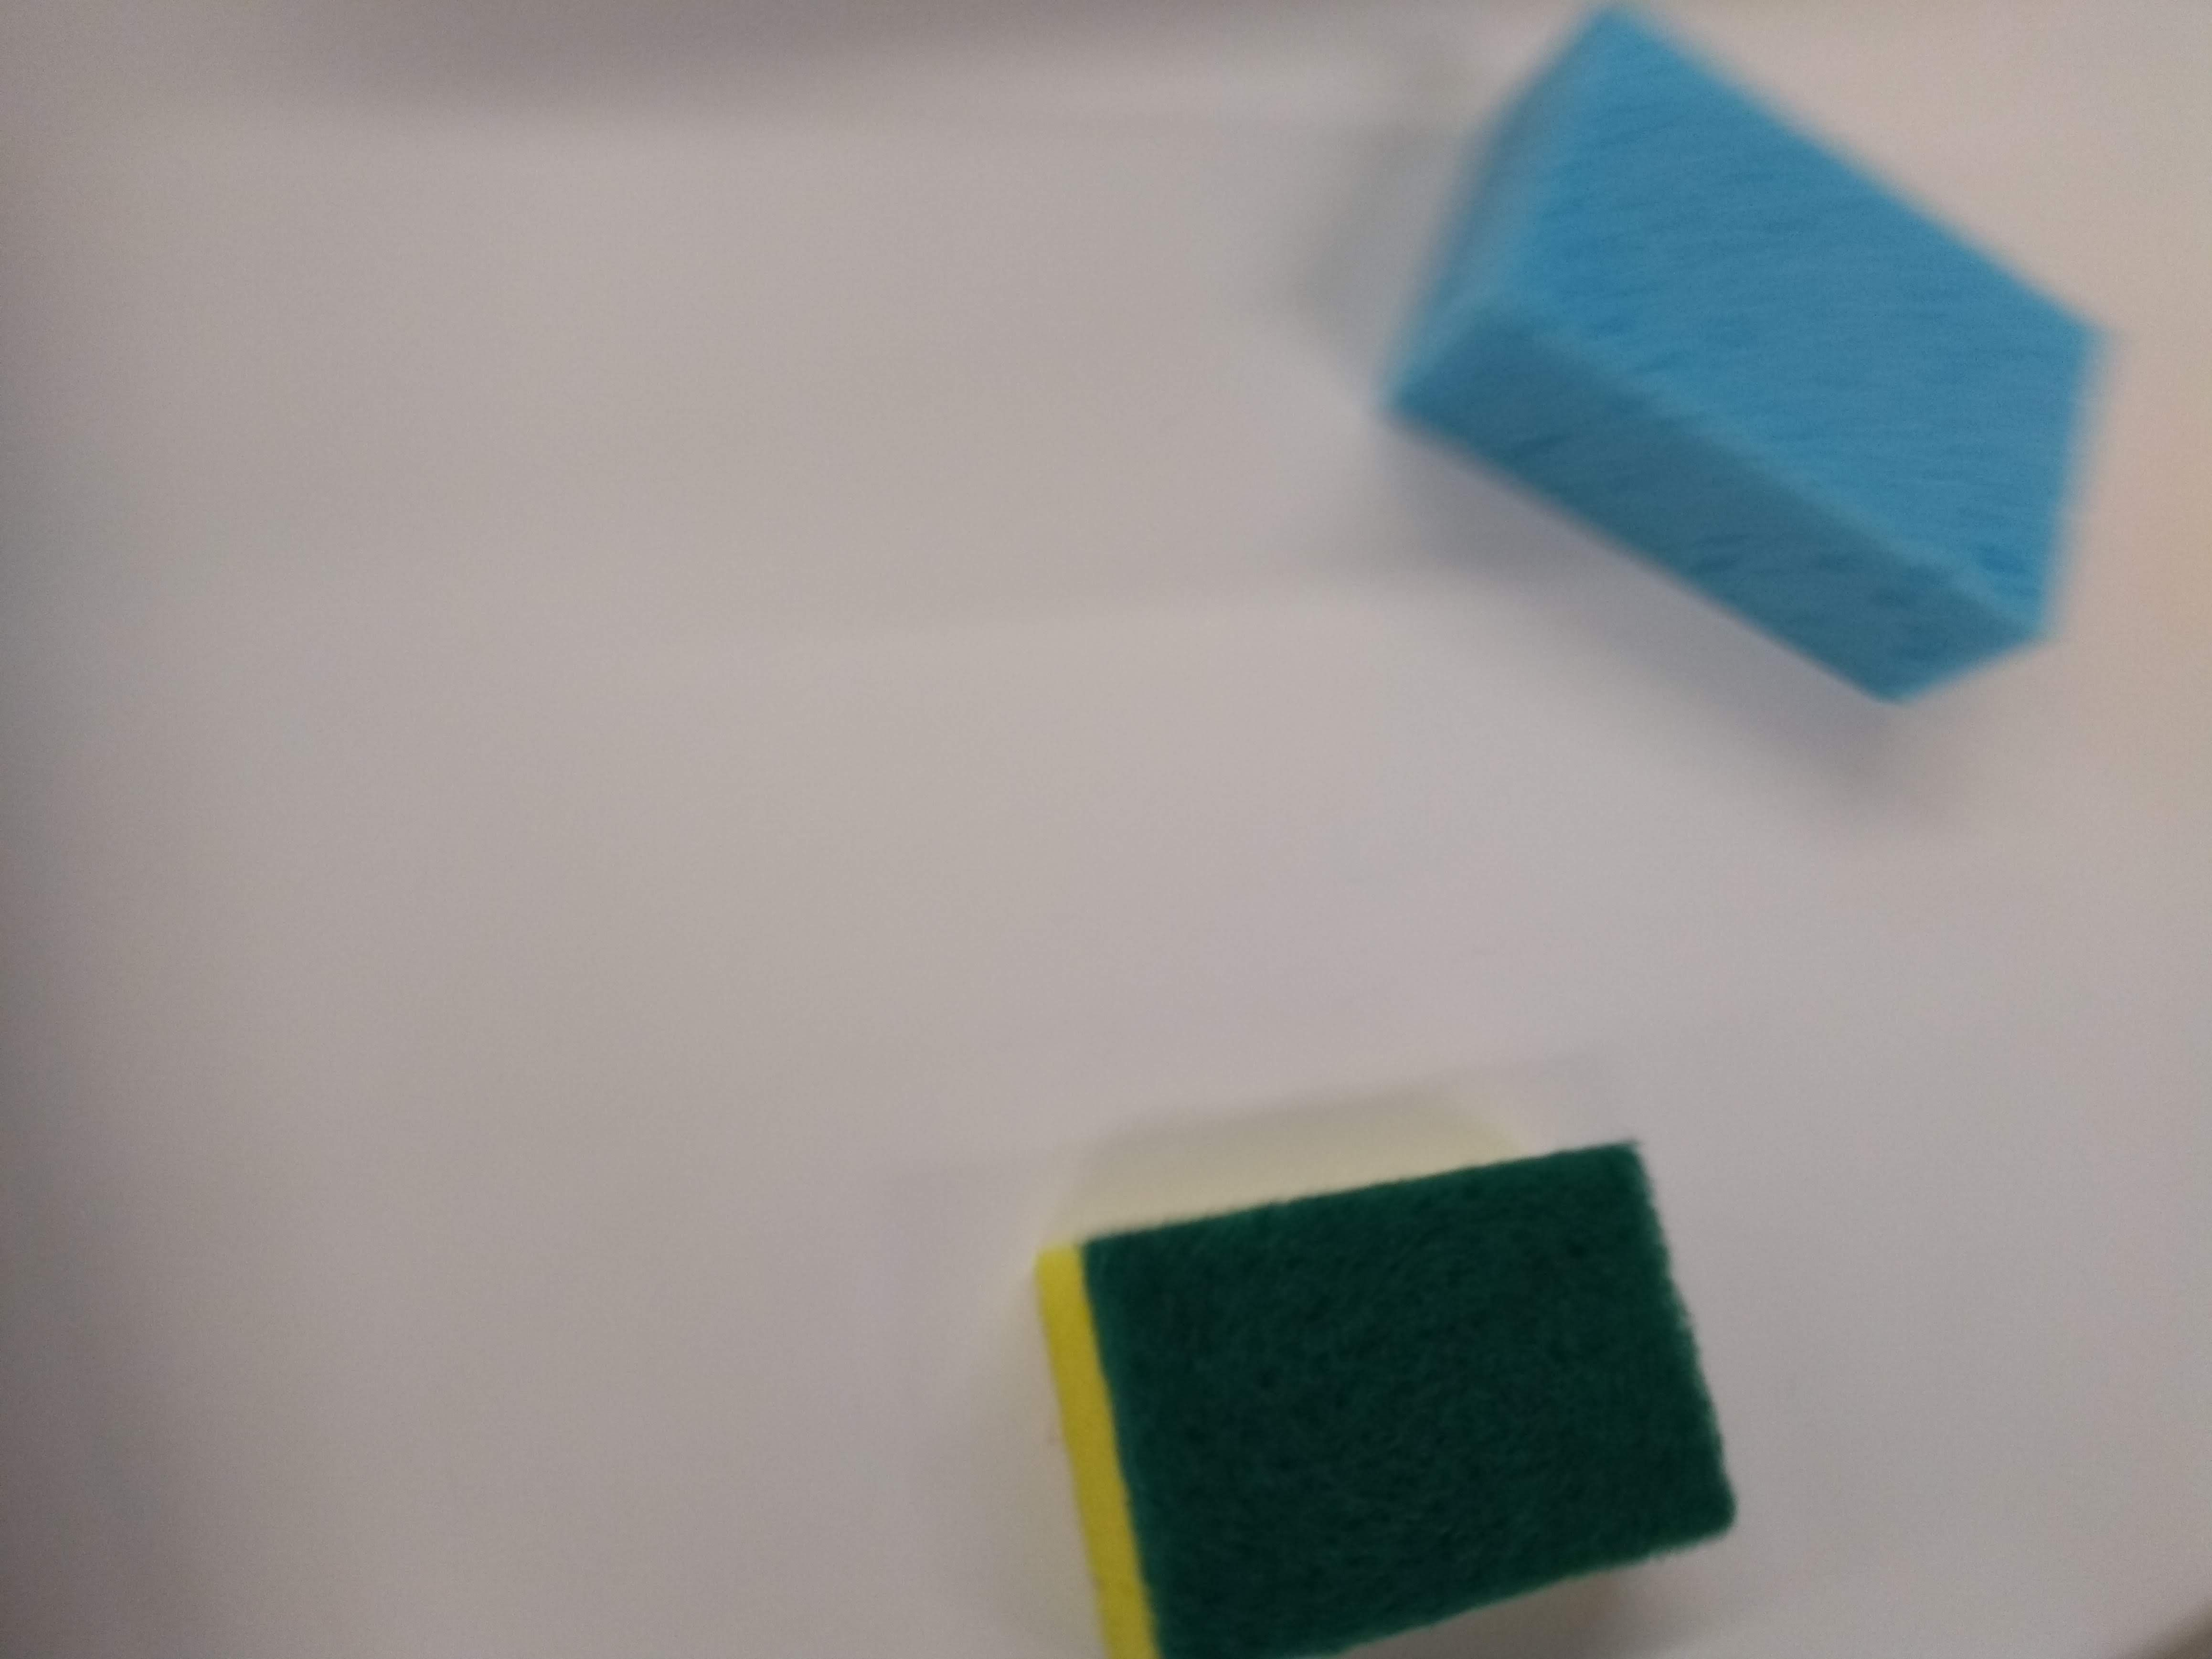scrubby: (1007, 1117, 1750, 1659)
sponge_opl: (1372, 0, 2130, 716)
